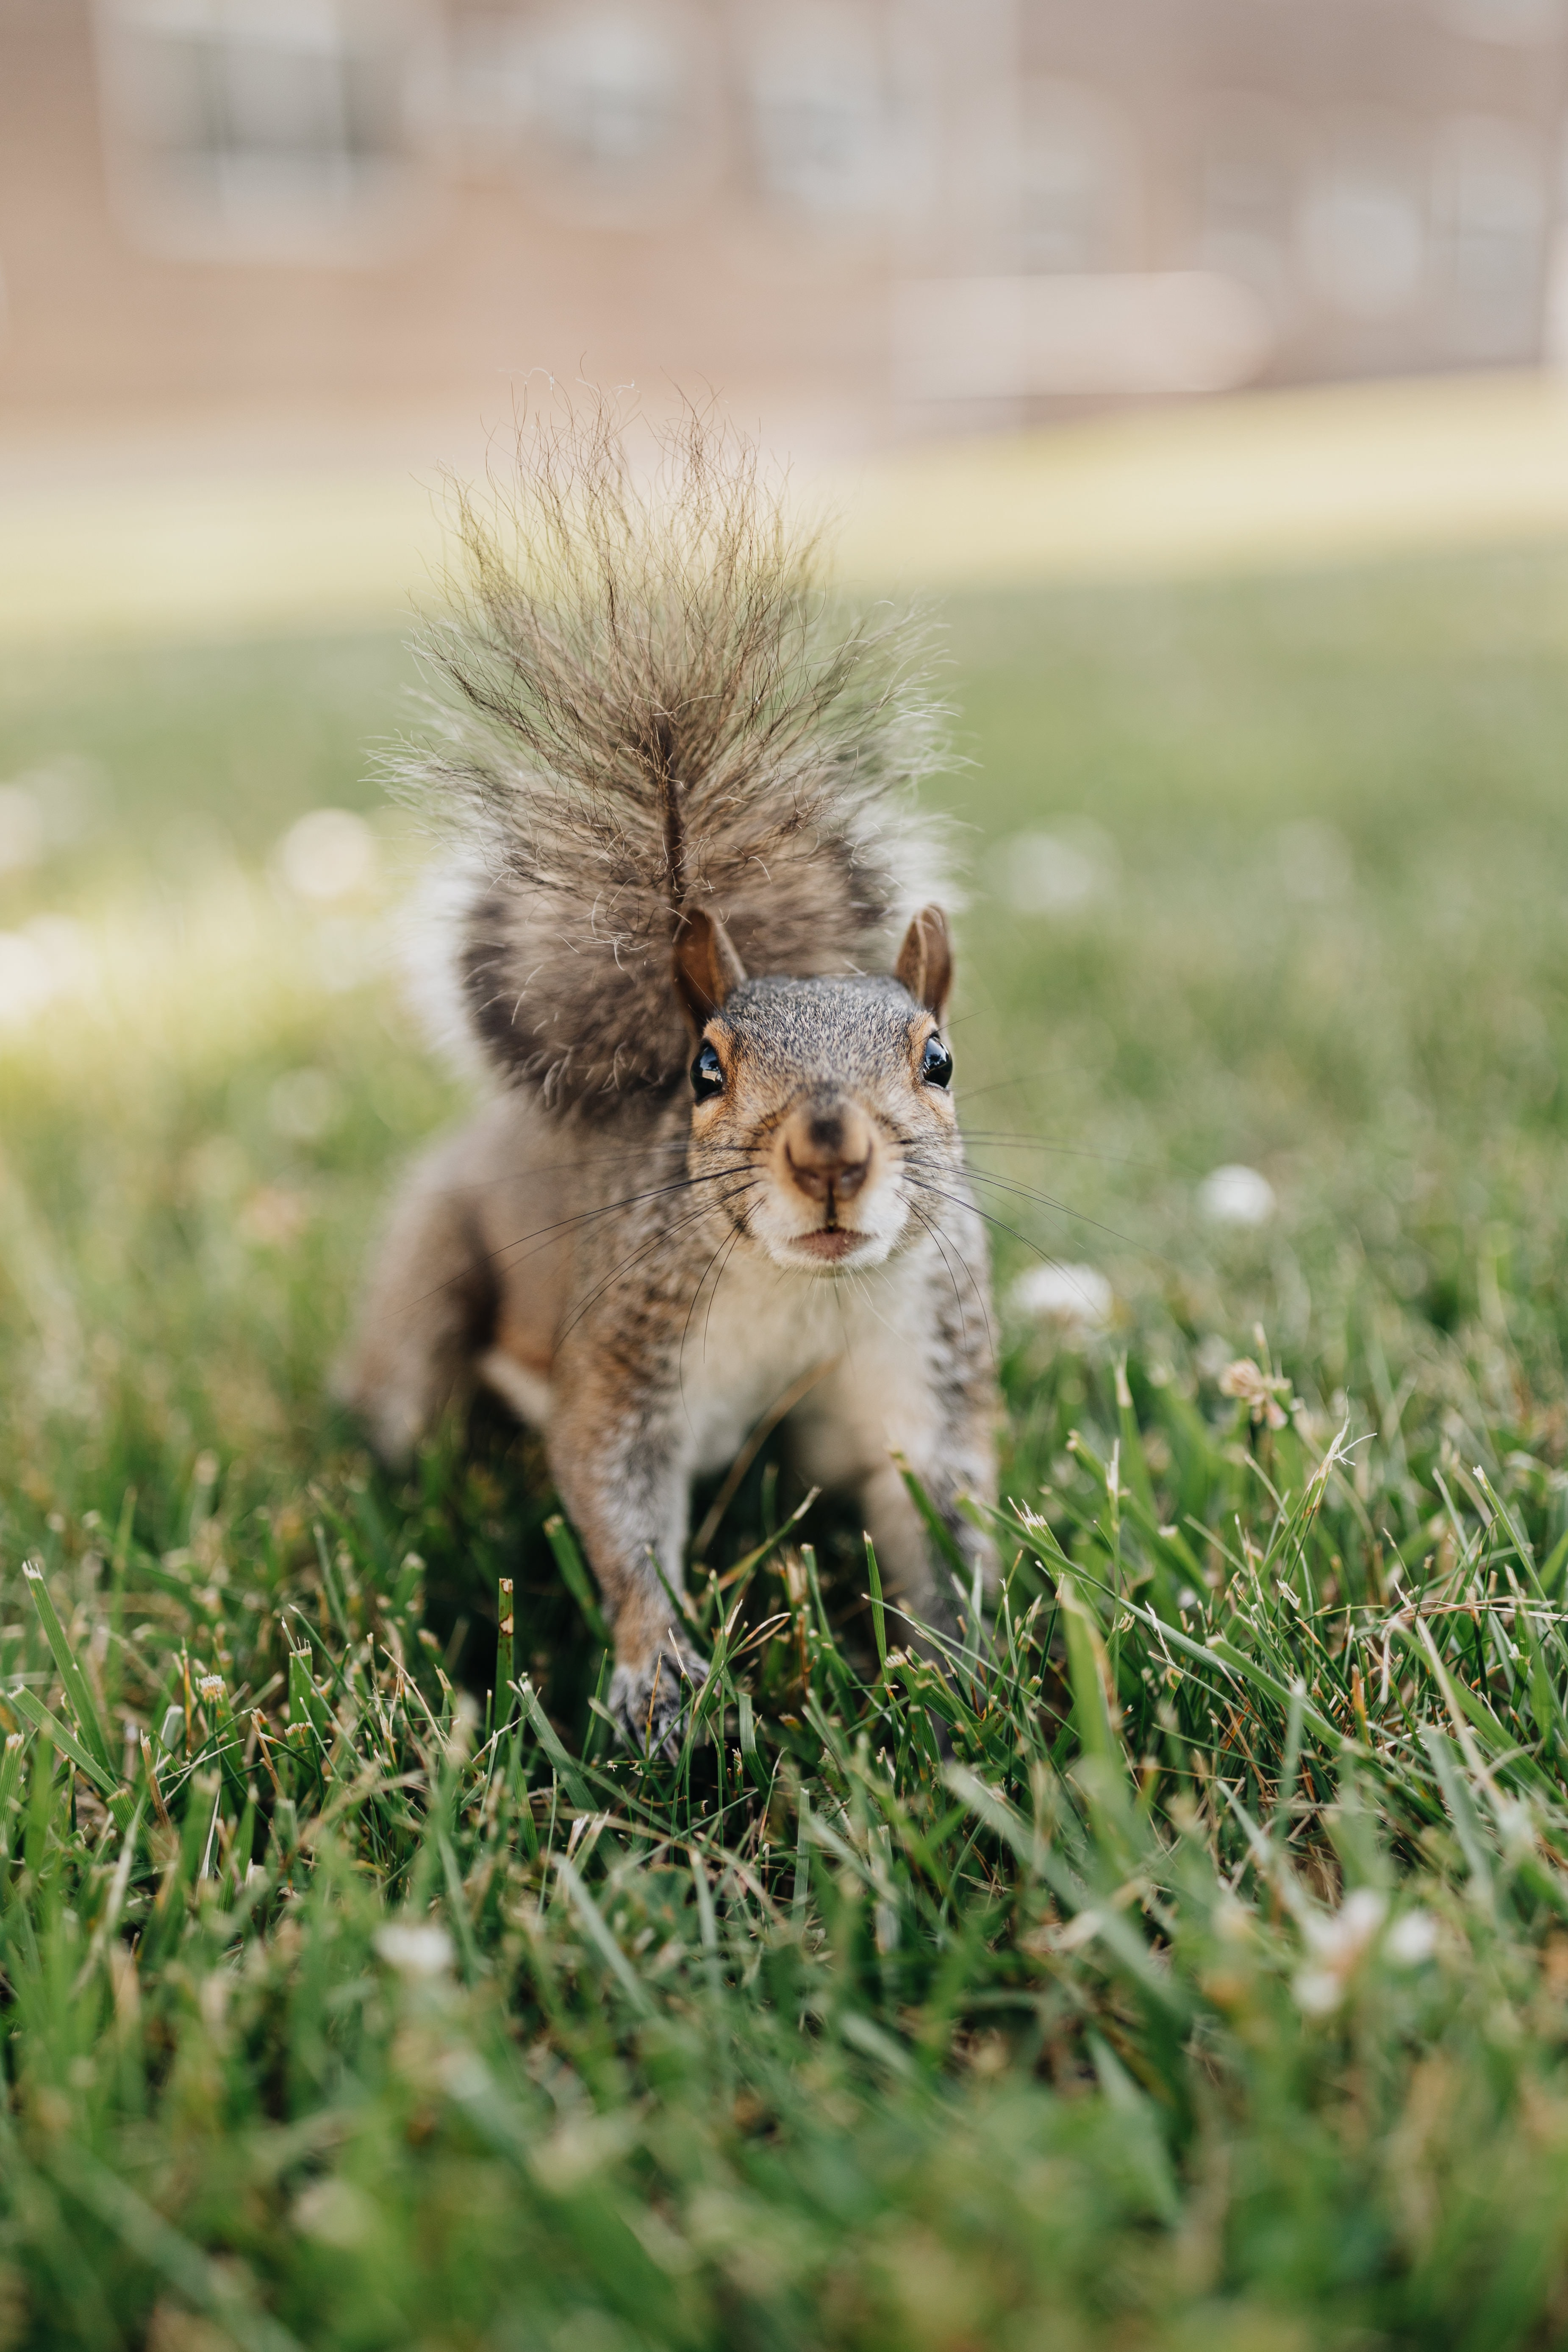squirrel: (397, 514, 1024, 1706)
